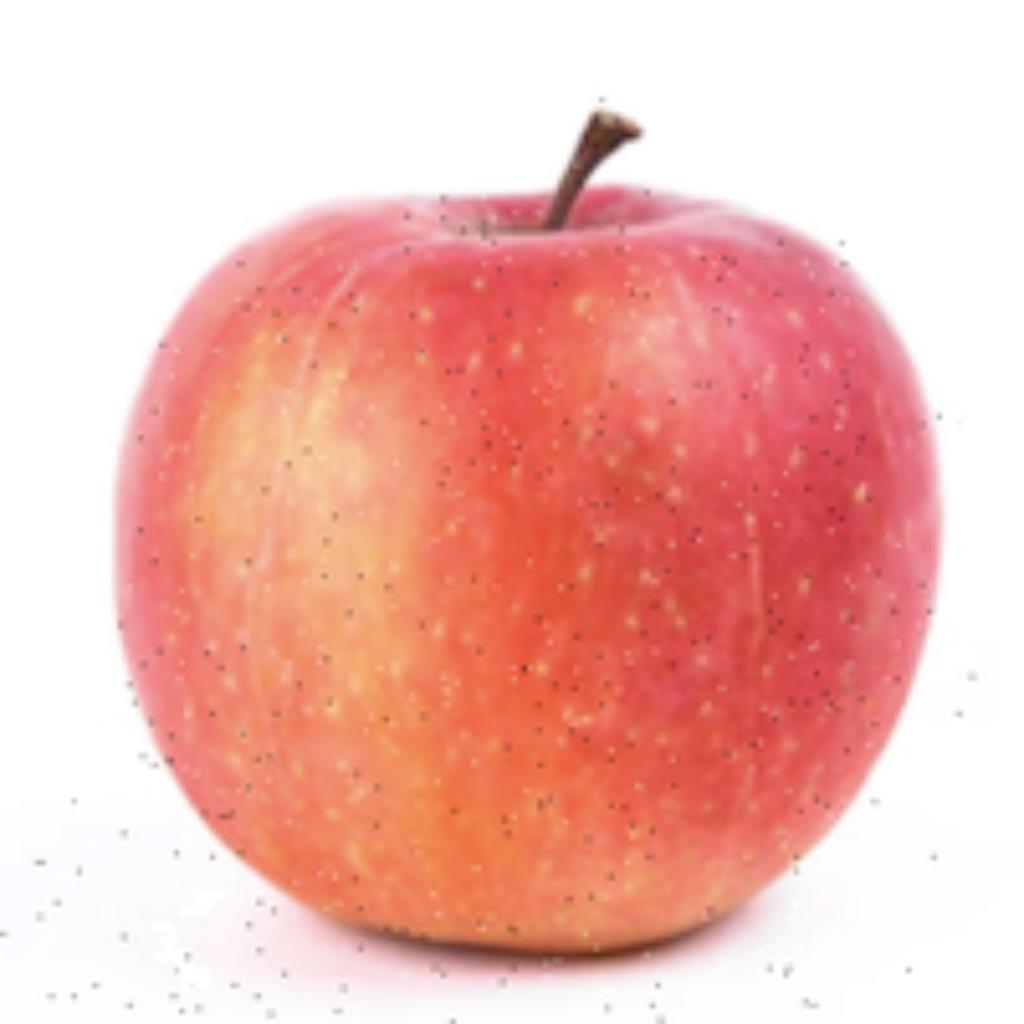apple: (102, 92, 947, 1014)
